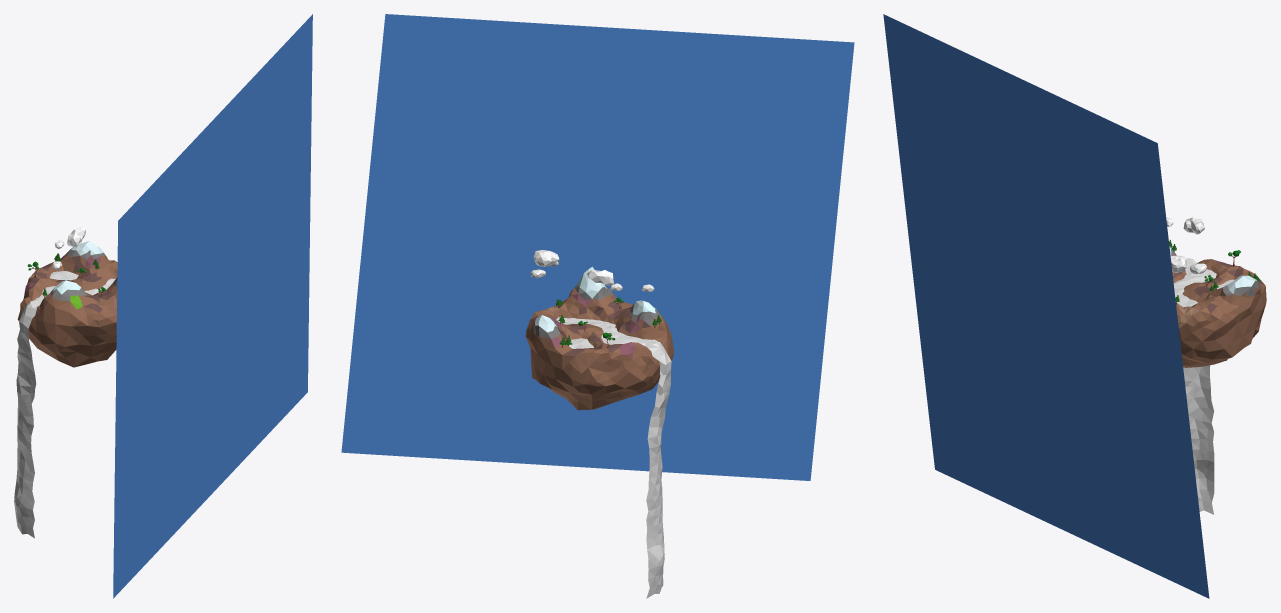
Rendered from desert_isle.fbx.
3 views of the same model, side by side, from view 1: azimuth 30°, elevation 25°; view 2: azimuth 150°, elevation 25°; view 3: azimuth 270°, elevation 25° (orthographic). The views are drawn at different scales.
Parts seen in each view (by area): view 1: Plane.009, Icosphere, Plane, Icosphere.007; view 2: Plane.009, Icosphere, Plane, Icosphere.007; view 3: Plane.009, Icosphere, Plane, Icosphere.007.
Boxes of the visible parts, left/top/right/bottom form: Plane.009: left=113, top=14, right=312, bottom=598; Icosphere: left=17, top=241, right=117, bottom=367; Plane: left=14, top=271, right=115, bottom=538; Icosphere.007: left=52, top=226, right=85, bottom=269; Plane.009: left=341, top=14, right=854, bottom=480; Icosphere: left=525, top=266, right=673, bottom=410; Plane: left=556, top=317, right=671, bottom=598; Icosphere.007: left=530, top=250, right=654, bottom=291; Plane.009: left=883, top=14, right=1209, bottom=598; Icosphere: left=1169, top=246, right=1266, bottom=367; Plane: left=1173, top=258, right=1234, bottom=514; Icosphere.007: left=1166, top=217, right=1206, bottom=274.
Size of the model in its own units: 5542 by 7341 by 4908.
